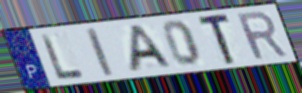0: (163, 18, 204, 69)
A: (128, 23, 176, 74)
I: (83, 26, 117, 78)
L: (38, 32, 87, 82)
R: (233, 9, 291, 62)
T: (197, 11, 238, 67)
